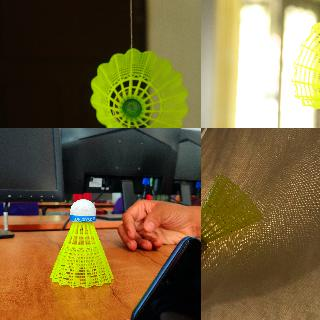shuttlecock: (90, 48, 188, 127), (48, 198, 114, 288), (201, 174, 262, 258), (291, 3, 319, 119)
